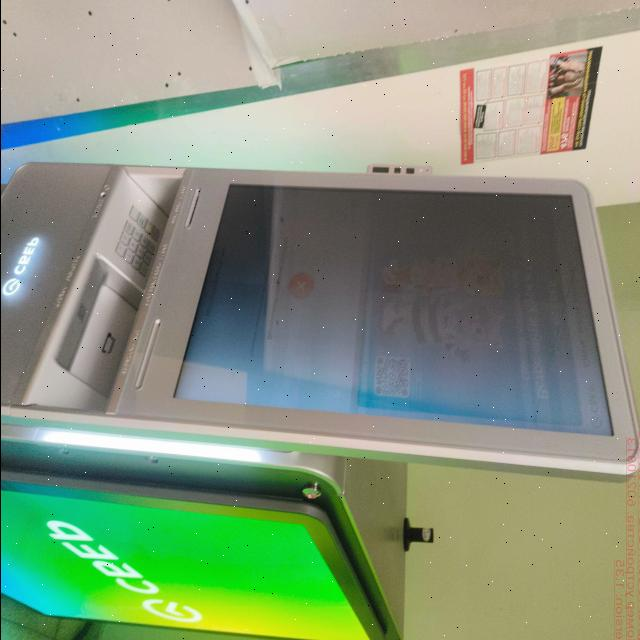bank: (0, 153, 638, 640)
